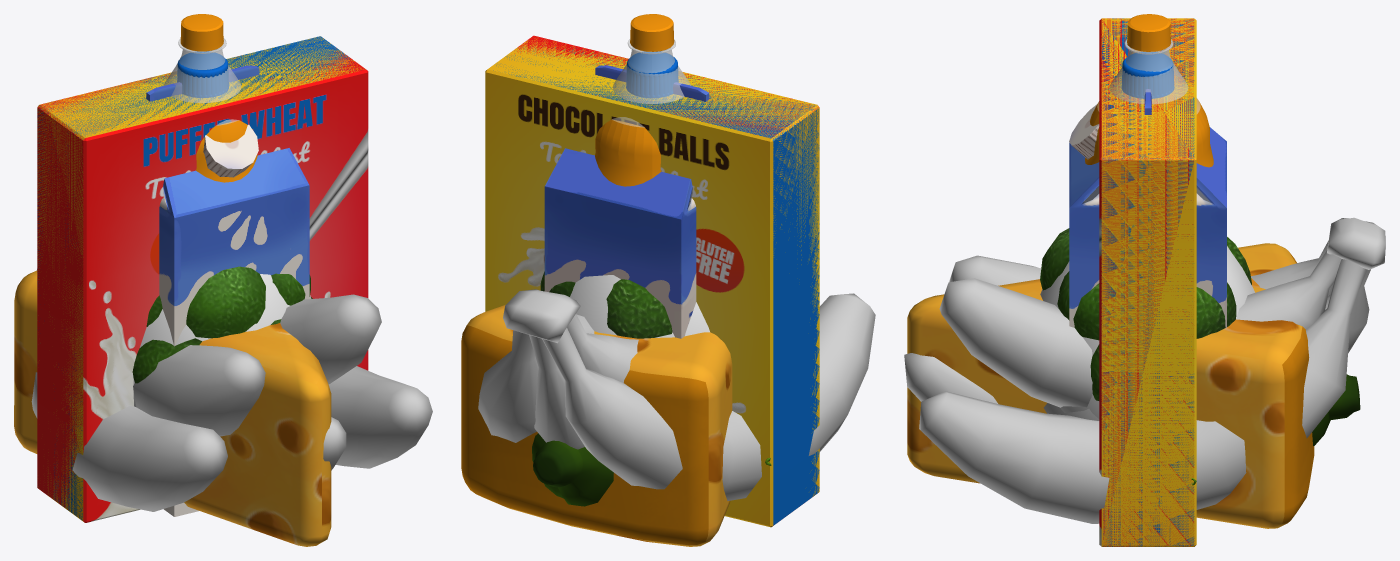
File: Models.fbx
The picture shows the model from 3 angles, left to right: view 1: azimuth 30°, elevation 25°; view 2: azimuth 150°, elevation 25°; view 3: azimuth 270°, elevation 25°; orthographic projection.
Parts seen in each view (by area): view 1: pCube3, Banana, cheese, LowpolyMilk_MilkGeo, pCube1, pCube2, Broccoli, polySurface3, polySurface2, pSphere1; view 2: pCube1, Banana, cheese, pCube2, LowpolyMilk_MilkGeo, polySurface3, Corn, Broccoli, pCube3, pSphere1, polySurface2; view 3: Banana, pCube1, cheese, pCube3, LowpolyMilk_MilkGeo, pCube2, polySurface3, Broccoli, polySurface2, pSphere1, Corn.
Boxes of the visible parts, x1,y1,x2,y2 form: pCube3: (37, 47, 368, 522); Banana: (31, 269, 432, 511); cheese: (14, 270, 331, 546); LowpolyMilk_MilkGeo: (146, 65, 309, 516); pCube1: (37, 36, 365, 521); pCube2: (37, 36, 354, 519); Broccoli: (132, 266, 312, 383); polySurface3: (163, 14, 257, 182); polySurface2: (177, 51, 228, 97); pSphere1: (133, 274, 311, 406); pCube1: (485, 37, 819, 527); Banana: (478, 289, 875, 500); cheese: (461, 305, 732, 546); pCube2: (493, 47, 819, 525); LowpolyMilk_MilkGeo: (544, 65, 709, 338); polySurface3: (595, 14, 690, 186); Corn: (532, 433, 771, 506); Broccoli: (540, 271, 672, 338); pCube3: (514, 35, 819, 525); pSphere1: (570, 275, 709, 337); polySurface2: (626, 51, 678, 97); Banana: (904, 217, 1385, 523); pCube1: (1101, 18, 1196, 546); cheese: (907, 243, 1314, 528); pCube3: (1099, 18, 1194, 546); LowpolyMilk_MilkGeo: (1069, 89, 1226, 327); pCube2: (1102, 18, 1194, 546); polySurface3: (1085, 14, 1213, 167); Broccoli: (1040, 228, 1251, 400); polySurface2: (1122, 52, 1174, 98); pSphere1: (1040, 246, 1254, 418); Corn: (1191, 374, 1360, 485).
Bounding box in the file's own units: 50.51 × 76.42 × 72.31.
